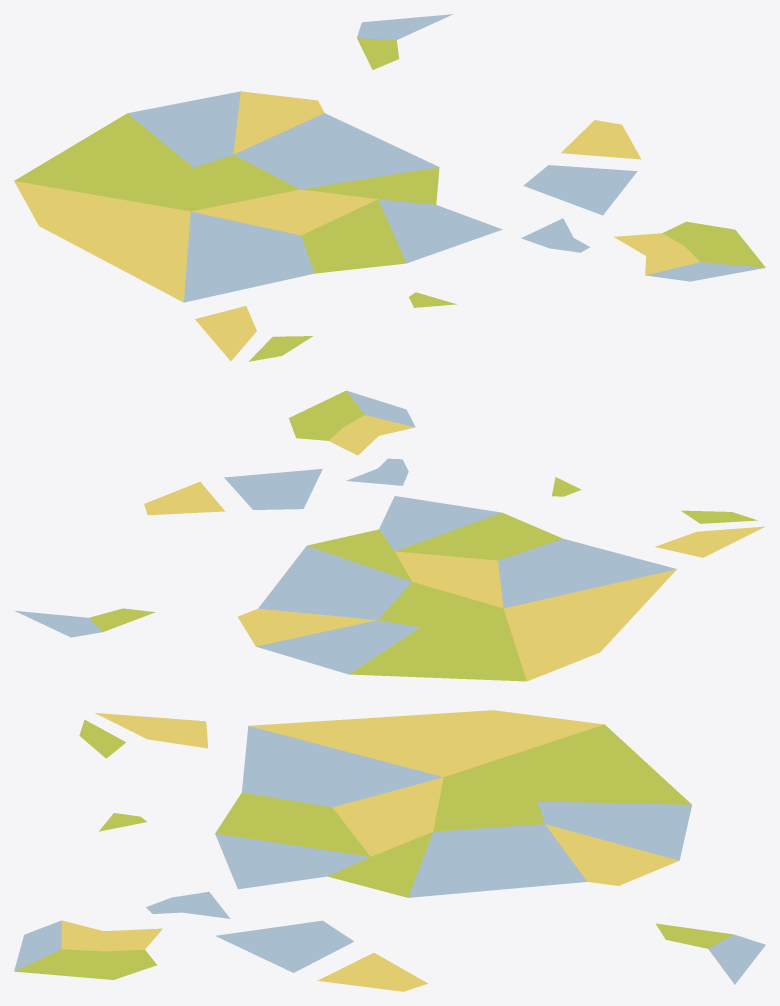
The model's file is Isl_18_Mosaic.fbx.
3 views of the same model, one above another, from view 1: azimuth 30°, elevation 25°; view 2: azimuth 150°, elevation 25°; view 3: azimuth 270°, elevation 25° (orthographic). The views are drawn at different scales.
Parts seen in each view (by area): view 1: Isl_18_Mosaic; view 2: Isl_18_Mosaic; view 3: Isl_18_Mosaic.
Boxes of the visible parts, x1,y1,x2,y2 form: Isl_18_Mosaic: (14,14,765,361); Isl_18_Mosaic: (14,390,764,681); Isl_18_Mosaic: (14,710,765,991).
Bounding box in the file's own units: 1427 × 1610 × 9.86e-14.
Materials: 1 (1 with a texture image).
